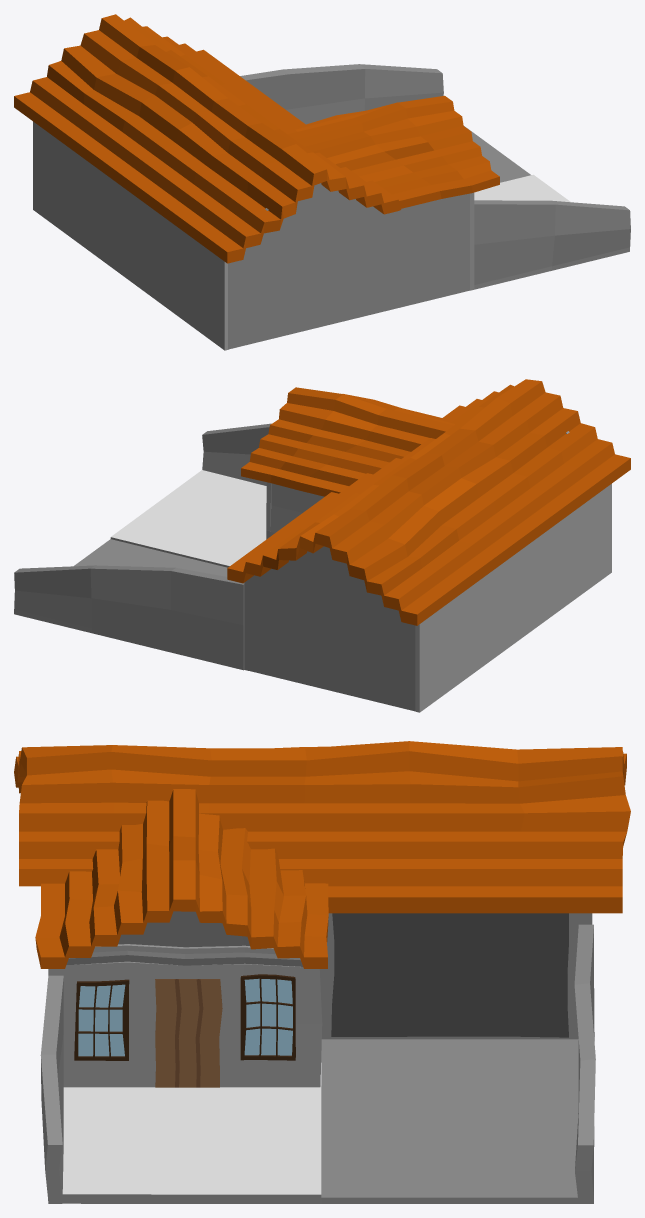
File: rumah 4.fbx
3 views of the same model, one above another, from view 1: azimuth 30°, elevation 25°; view 2: azimuth 150°, elevation 25°; view 3: azimuth 270°, elevation 25° (orthographic). The views are drawn at different scales.
Visible parts, largest first — view 1: atp_kcl3; view 2: atp_kcl3; view 3: atp_kcl3.
Part boxes in pixels (x1,y1,x2,y2): atp_kcl3: (14,14,630,350); atp_kcl3: (14,379,630,712); atp_kcl3: (14,741,630,1203).
Size of the model in its own units: 843 by 328 by 771.
